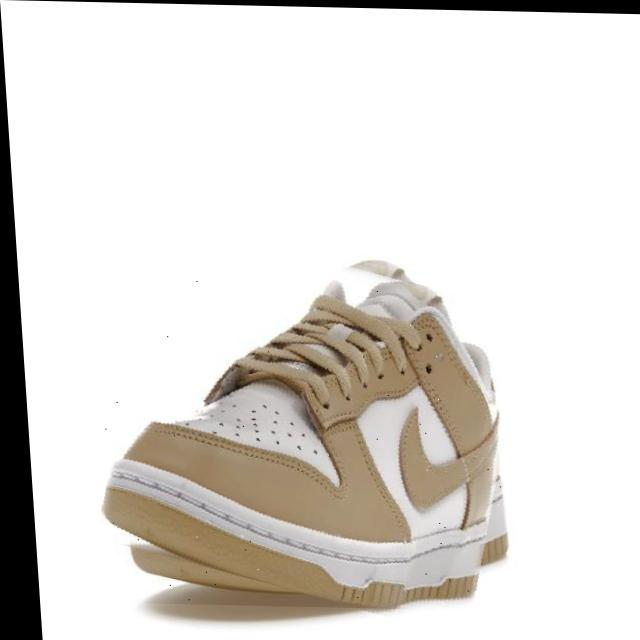J1_InsoleChar: (4, 5, 635, 636)
J1_ShoeLogo: (102, 257, 510, 609)
J1_StitchPattern: (203, 275, 494, 460), (105, 457, 508, 590), (204, 290, 425, 410), (148, 417, 341, 495), (261, 318, 387, 387), (336, 573, 480, 609)
